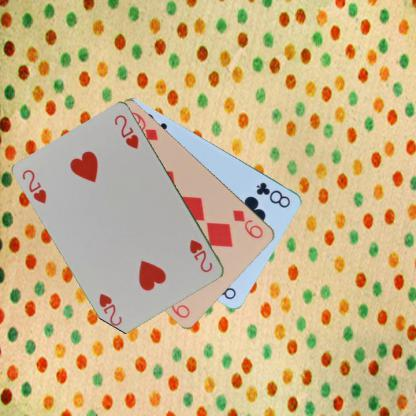2h: (20, 167, 48, 205), (187, 237, 214, 274)
8c: (254, 179, 291, 209)
9d: (231, 207, 264, 240)
